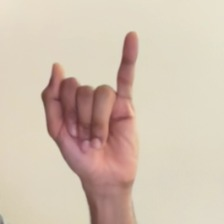I: (30, 22, 168, 197)
